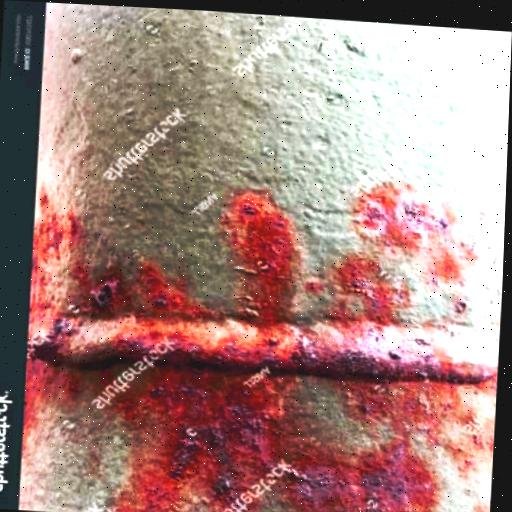corrosion: (113, 365, 445, 512), (55, 306, 494, 379), (333, 178, 482, 325)
